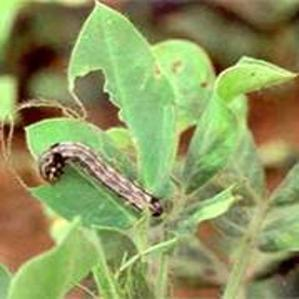Tobacco cutworm: (14, 119, 186, 248)
